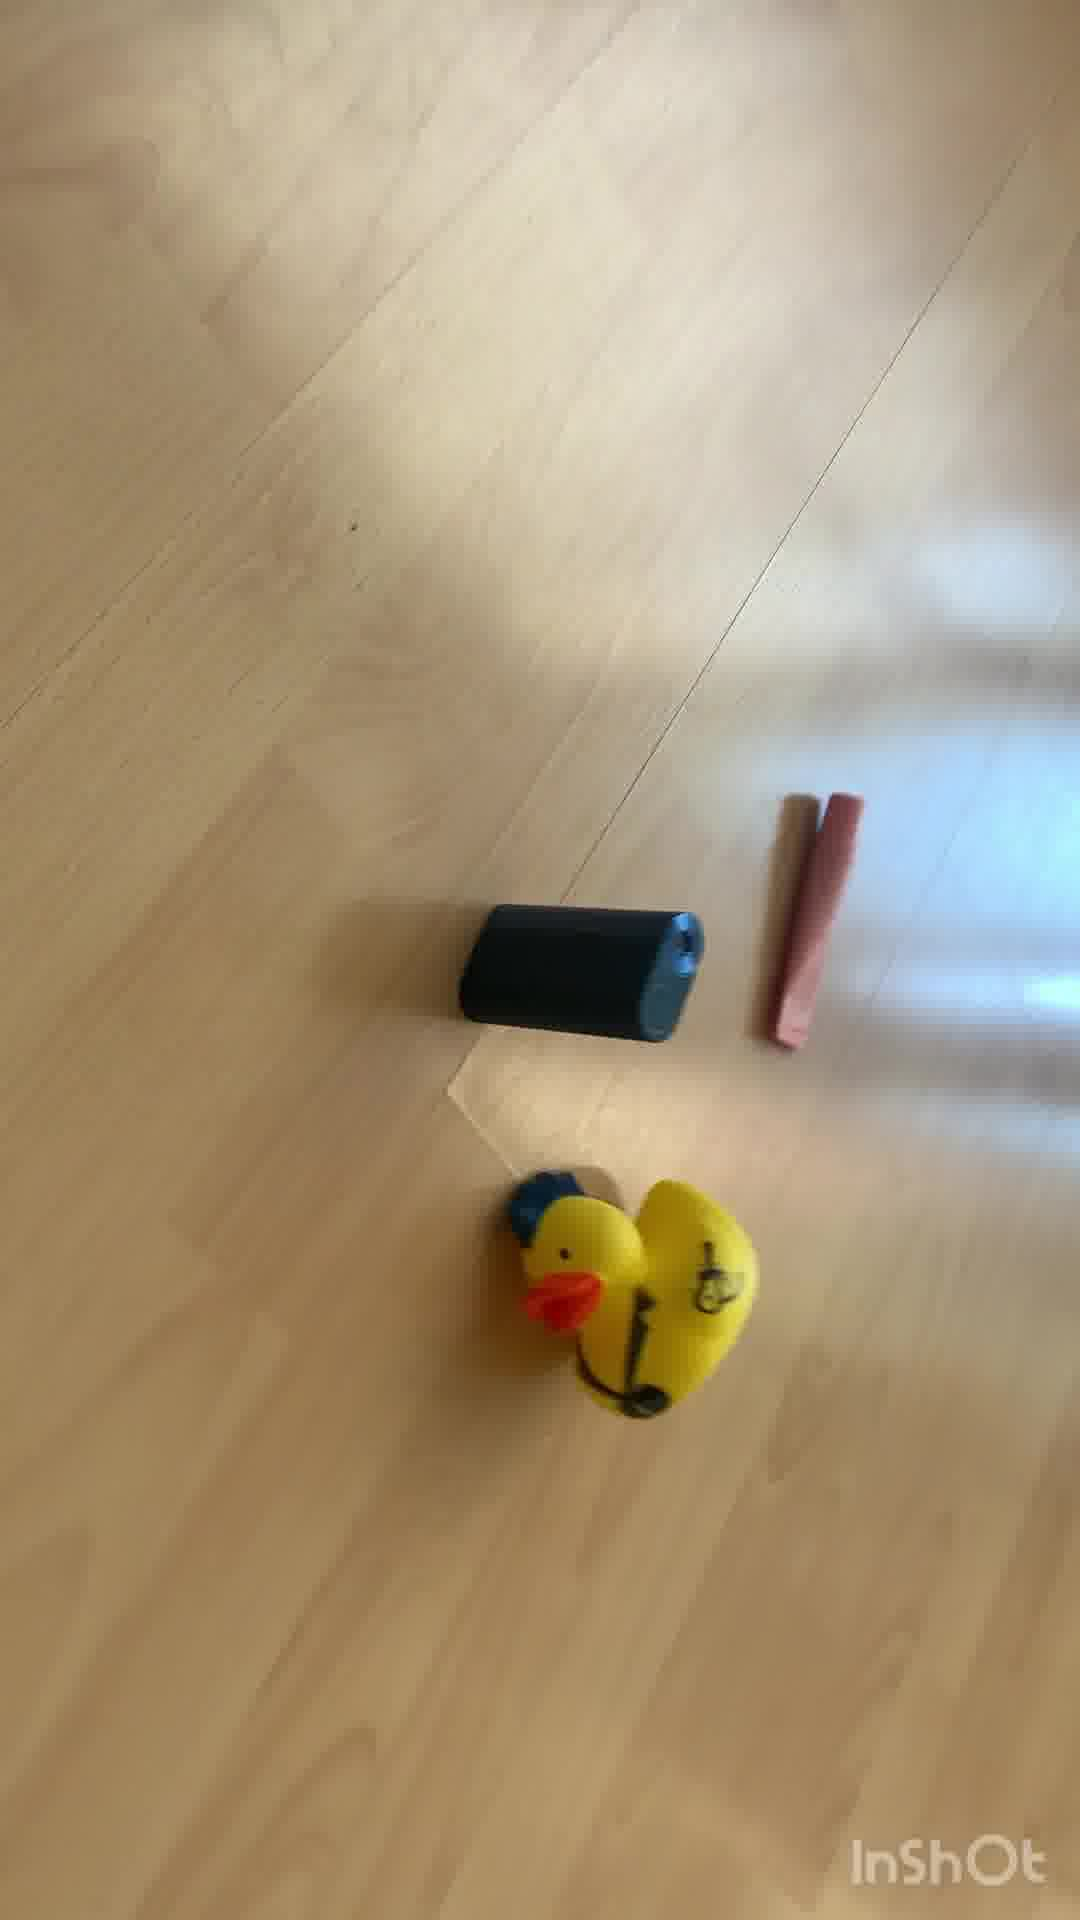duck: (508, 1164, 767, 1422)
glo: (459, 887, 715, 1062)
lip balm: (771, 777, 869, 1054)
